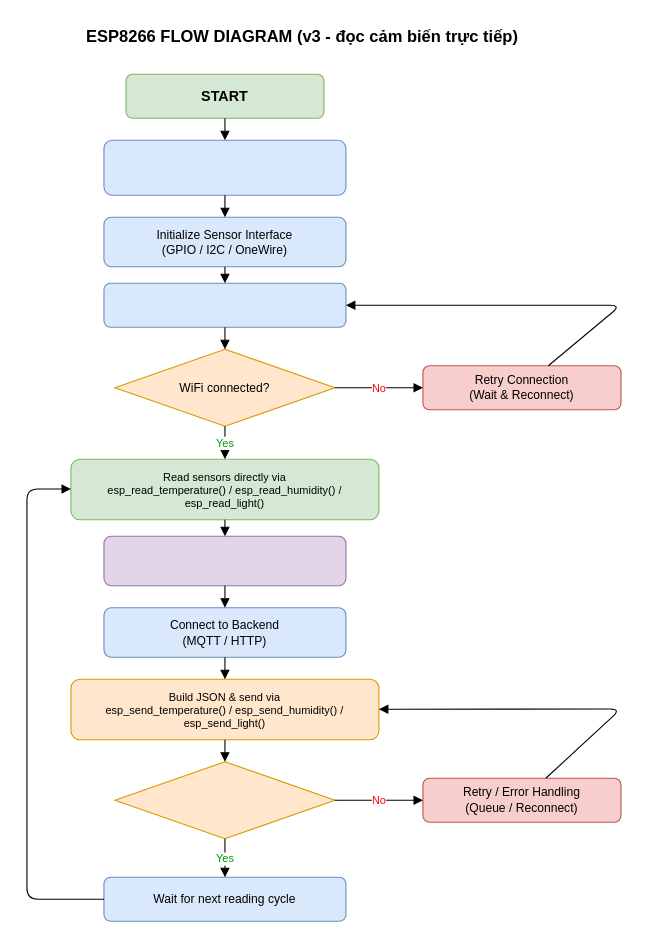
This 649x941 diagram has some shape labels left out. Here are the shapes that lost their labels. From the top down, the centre of each, then its label:
the point at 224,167: Initialize ESP8266 (SDK, GPIO, Timer, etc.)
the point at 224,304: Connect to WiFi
the point at 224,560: Validate / Store to Buffer
the point at 224,800: Transmission successful?
